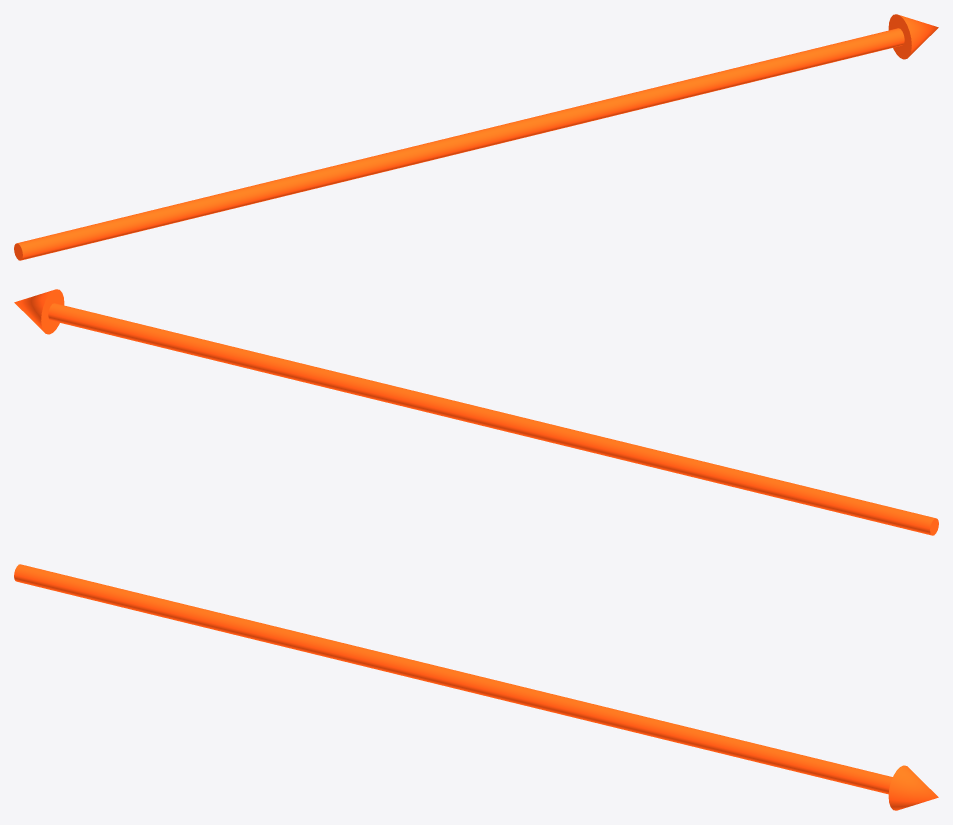
Rendered from rupture_disc_flow.glb.
3 views of the same model, one above another, from view 1: azimuth 30°, elevation 25°; view 2: azimuth 150°, elevation 25°; view 3: azimuth 330°, elevation 25° (orthographic).
Visible parts, largest first — view 1: relief; view 2: relief; view 3: relief.
Boxes of the visible parts, x1,y1,x2,y2 form: relief: (14,14,938,260); relief: (14,289,938,535); relief: (14,564,938,810).
Bounding box in the file's own units: 1.42 × 0.0624 × 0.0624.
